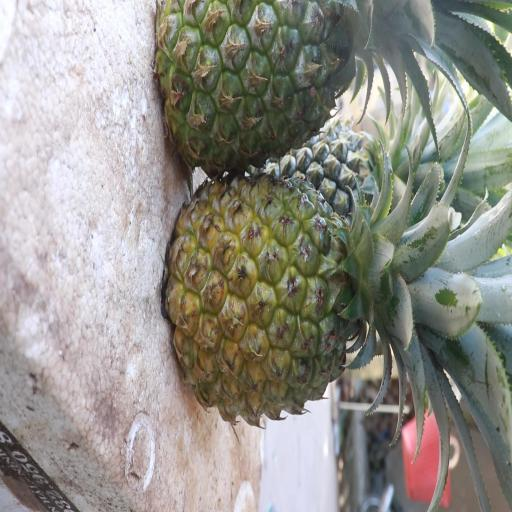------------------------------: (157, 1, 396, 175)
Pineapple - v8 v1: (171, 182, 416, 438)
